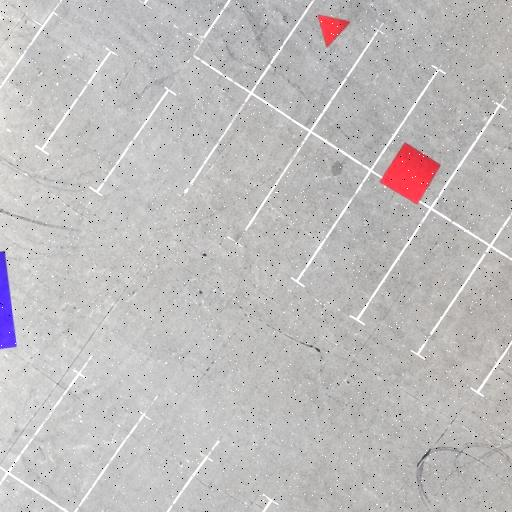RED_SQUARE: (379, 142, 442, 204)
